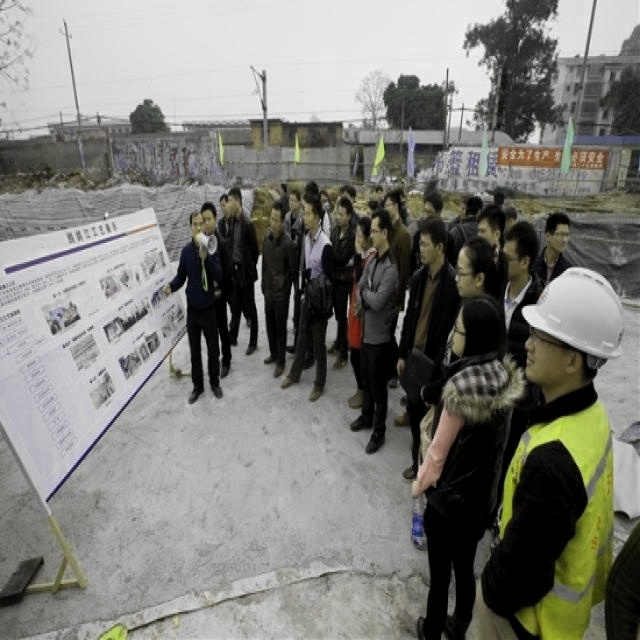Con_Casco: (524, 269, 626, 383)
Sin_Casco_Mascarrilla: (370, 210, 390, 250), (268, 202, 286, 234)
